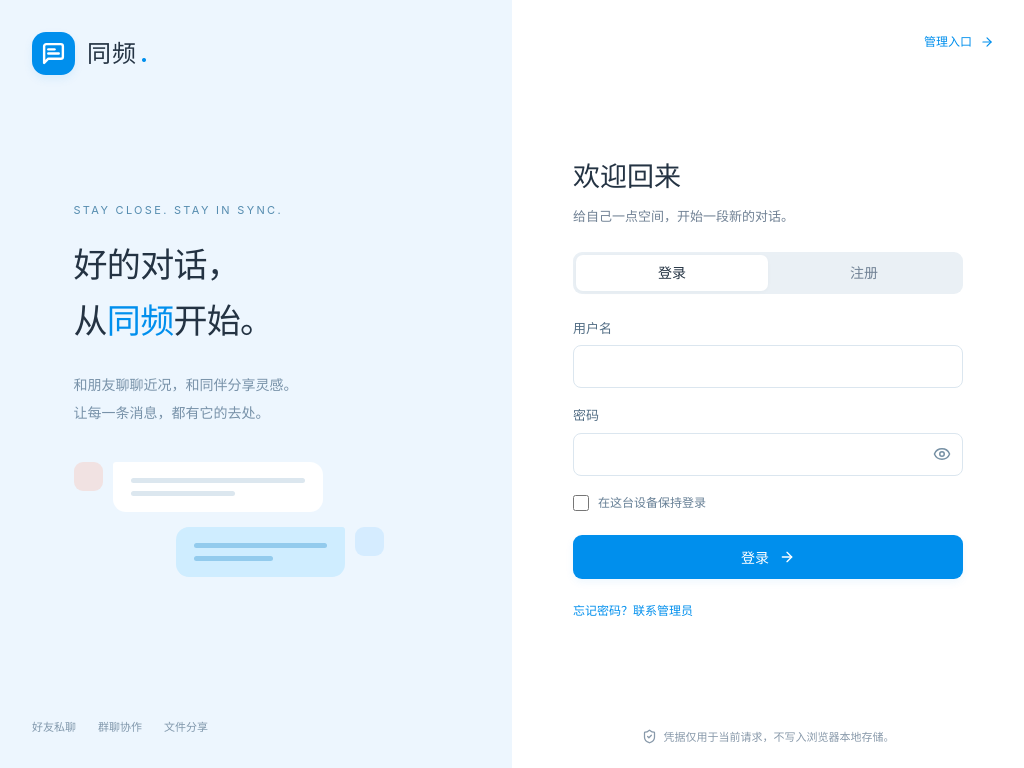
M2 authentication UI › does not introduce a captcha for a password error before the failure threshold
The image size is (1024, 768).
In the field labelled "用户名": (768, 367) [573,345,963,388], type "test_user"
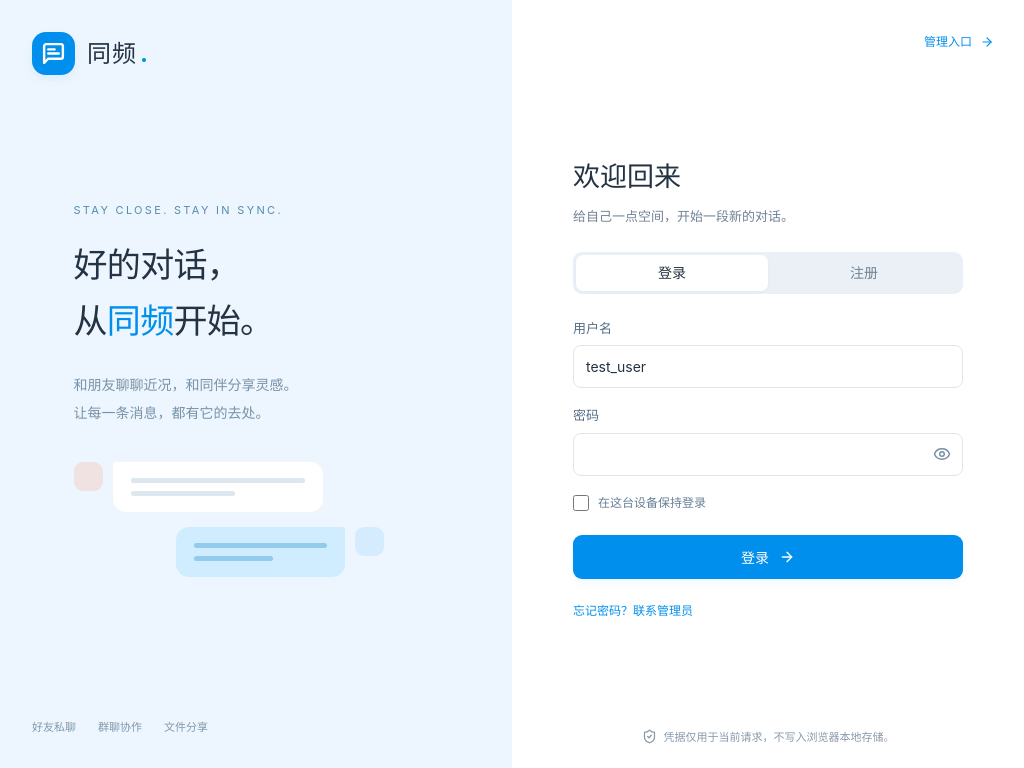
In the password field labelled "密码": (768, 454) [573,433,963,476], type "a safe test password"
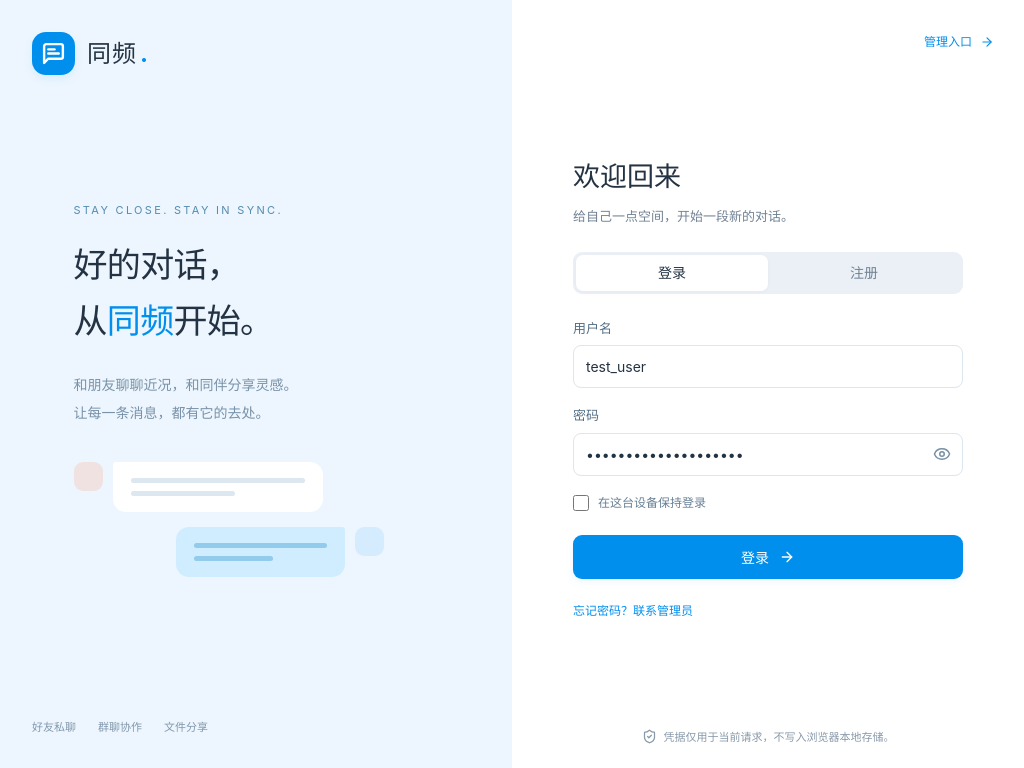
Click the button "登录" below "在这台设备保持登录": (768, 558) [573,536,963,580]
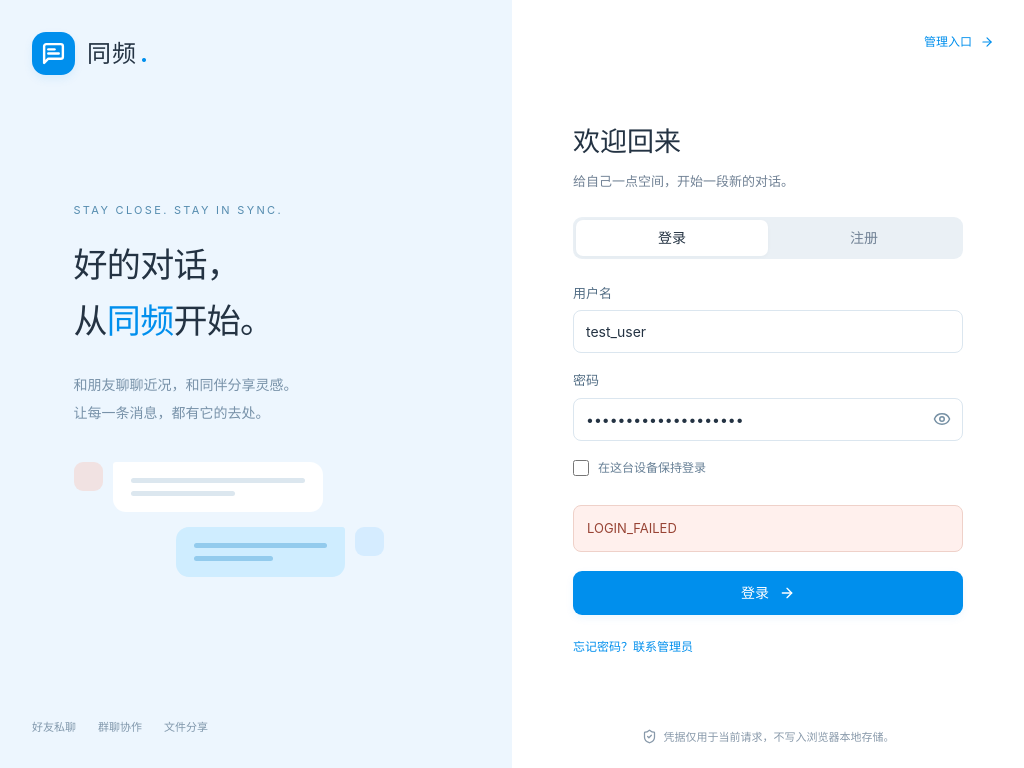
Result: the text "LOGIN_FAILED" is shown at [573,505,963,552]
